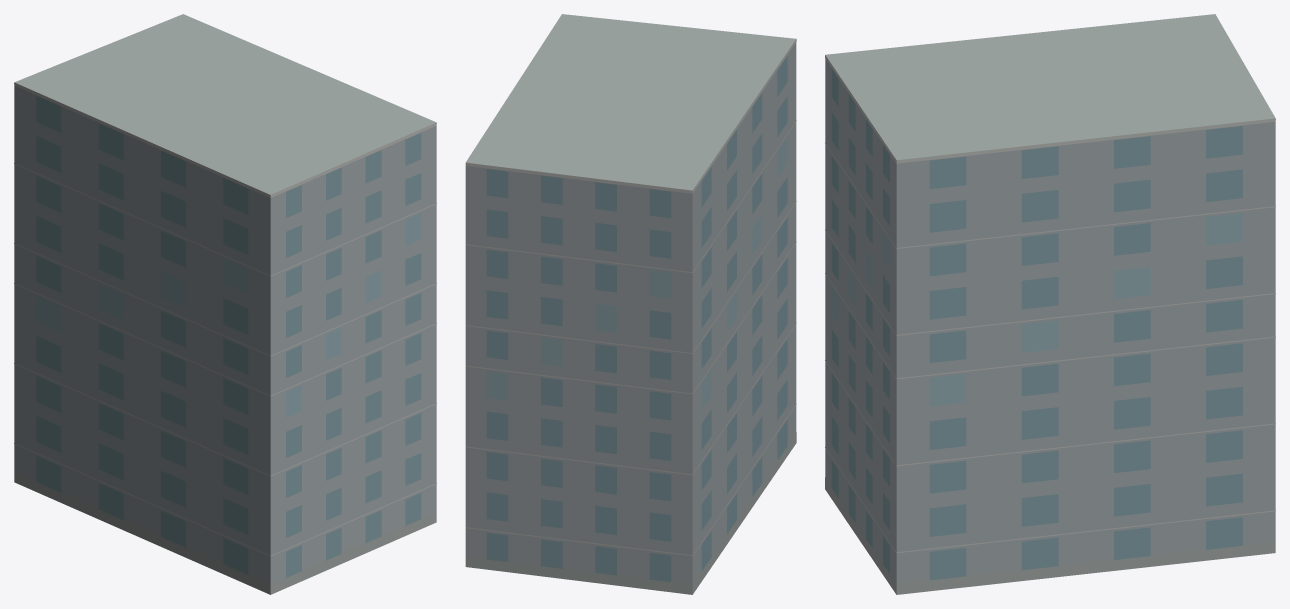
The model's file is survey-upis-32858041.glb.
3 renders of one model, left to right at view 1: azimuth 30°, elevation 25°; view 2: azimuth 150°, elevation 25°; view 3: azimuth 270°, elevation 25°, orthographic. The views are drawn at different scales.
Parts seen in each view (by area): view 1: survey-upis-32858041.tmp; view 2: survey-upis-32858041.tmp; view 3: survey-upis-32858041.tmp.
Boxes of the visible parts, x1=… form: survey-upis-32858041.tmp: x1=14, y1=14, x2=436, y2=594; survey-upis-32858041.tmp: x1=465, y1=14, x2=796, y2=594; survey-upis-32858041.tmp: x1=825, y1=14, x2=1275, y2=594.
Size of the model in its own units: 22.04 by 30.5 by 28.68.
